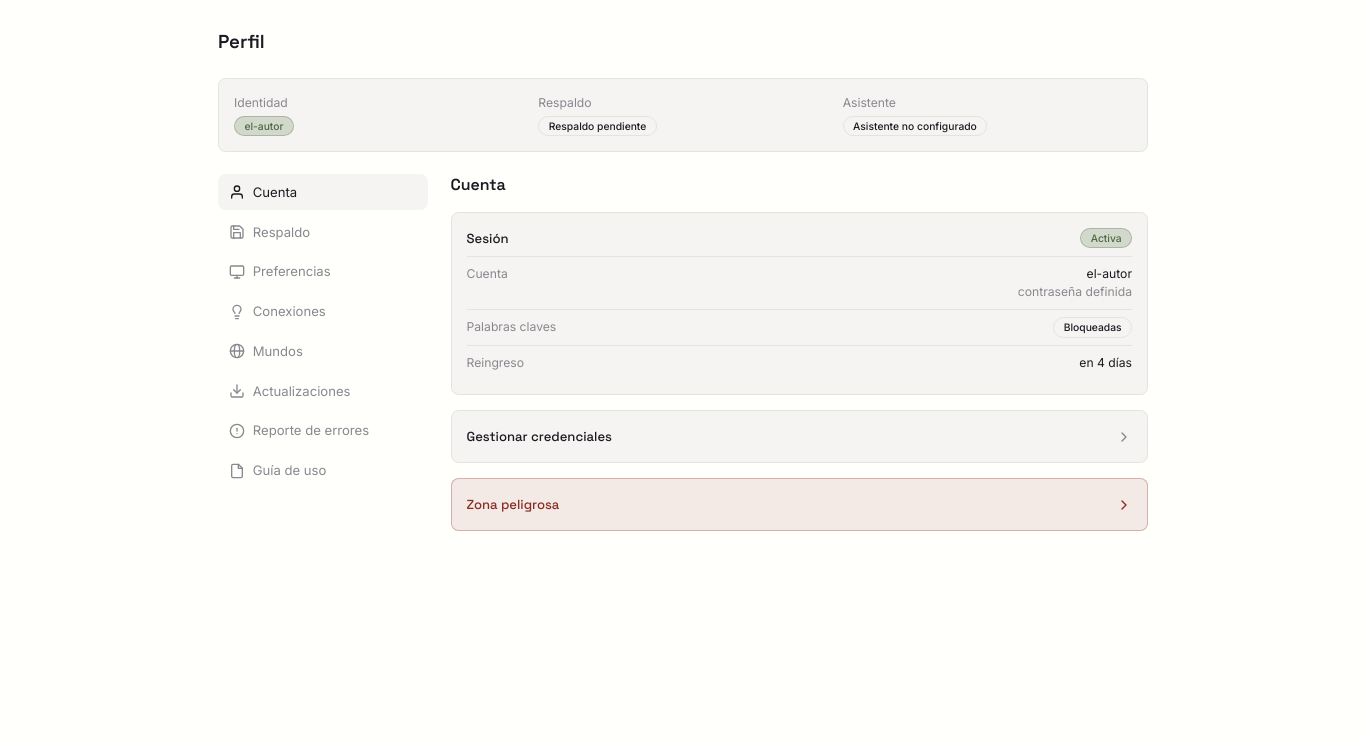
Test: ProfilePage account section (credentials mode) › changes the username by proving ownership with the words
Click the button "Gestionar credenciales": (539, 437) 452,411 -> 1147,462
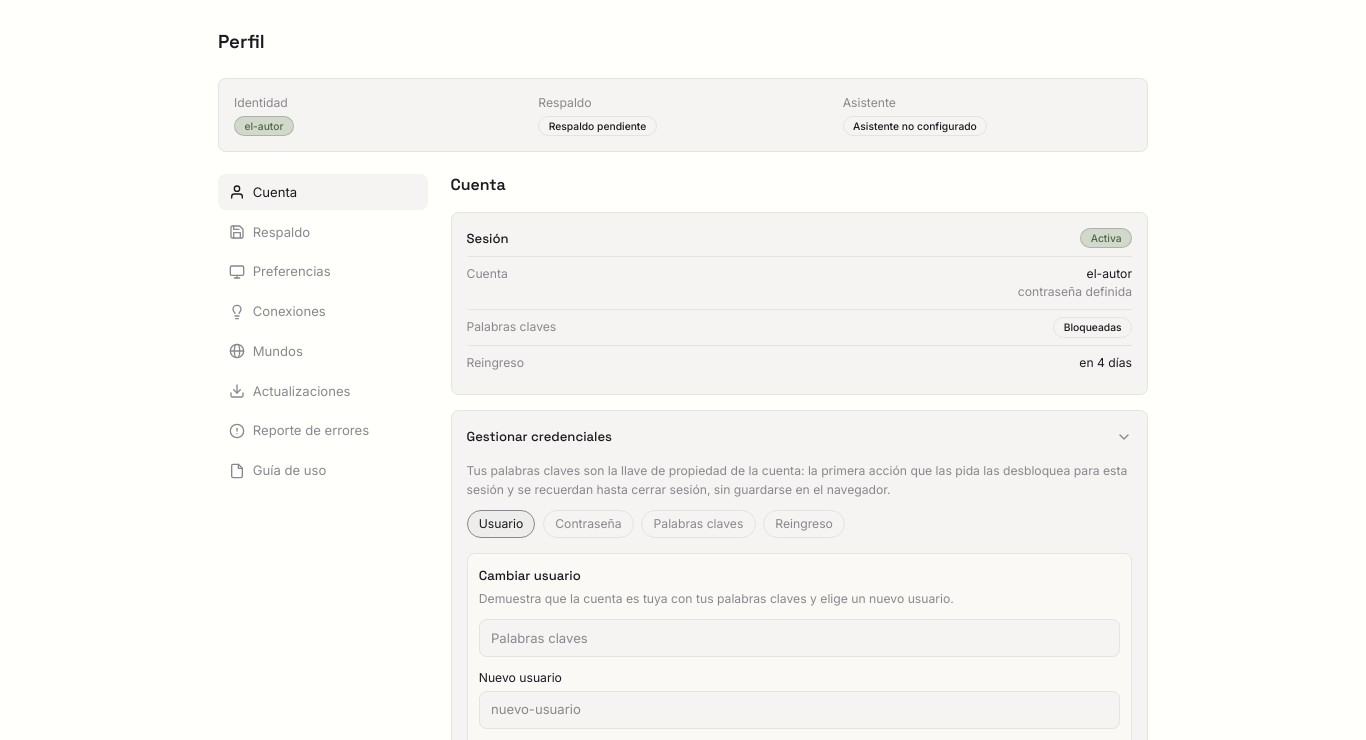
In the field named "Palabras claves para Cambiar usuario": (799, 638) 479,619 -> 1120,657, type "alpha beta gamma"
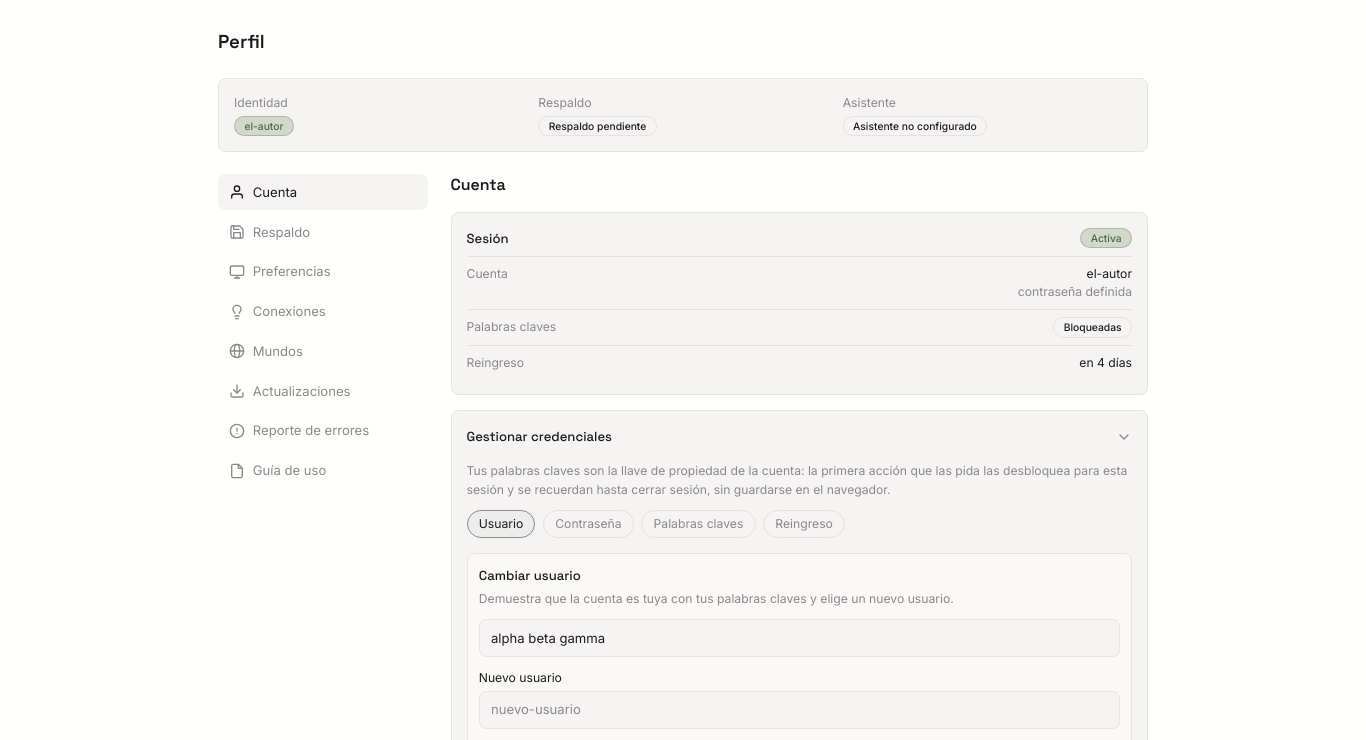
In the field labelled "Nuevo usuario": (799, 710) 479,691 -> 1120,729, type "nuevo-nombre"
(page scrolled)
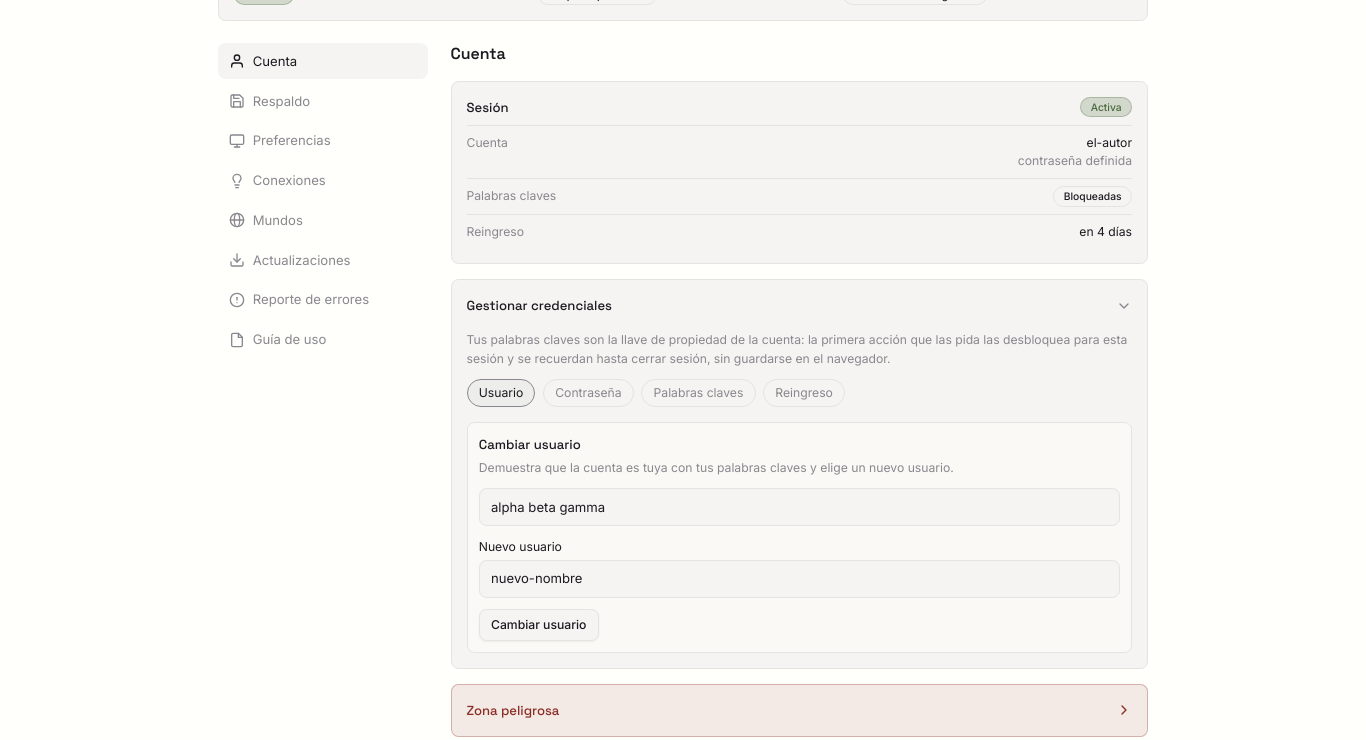
Click the button "Cambiar usuario": (539, 625) 479,609 -> 599,640
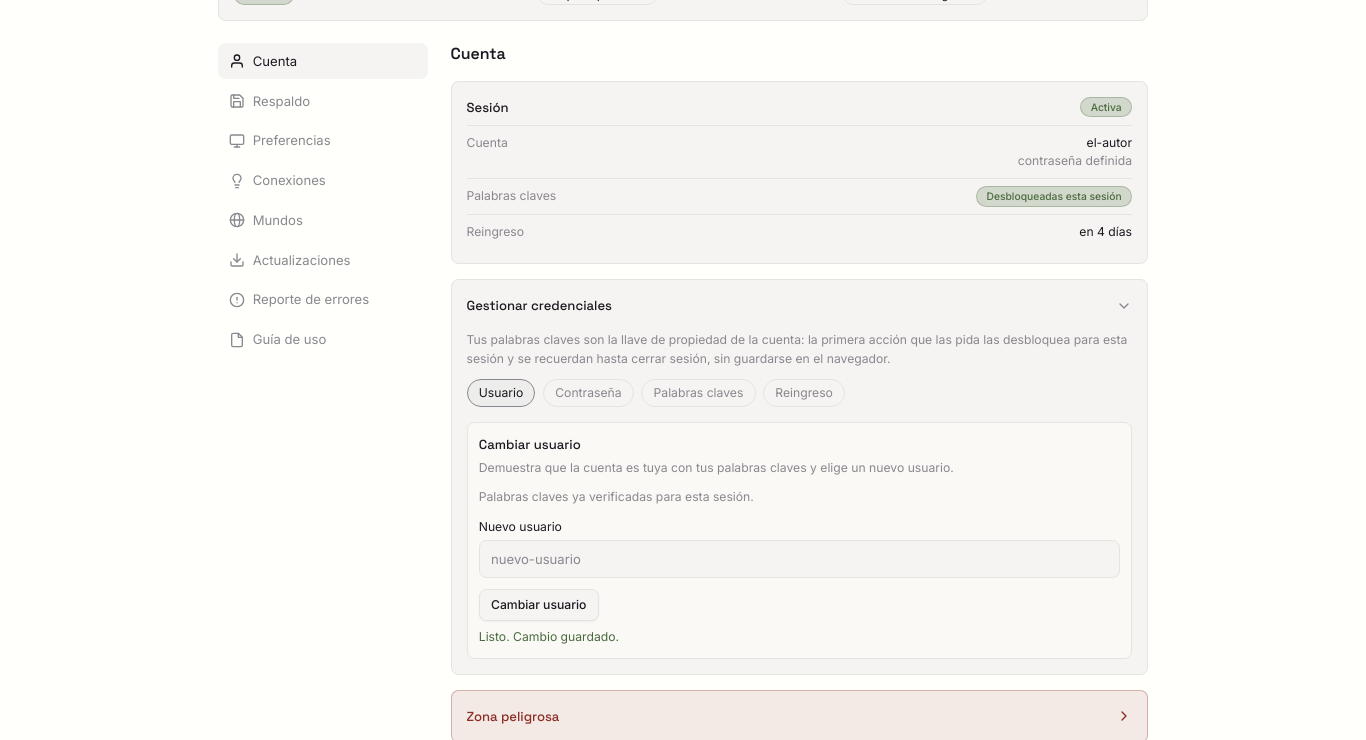
expect the text "Listo. Cambio guardado." is shown: met, box 479,629 -> 619,644
